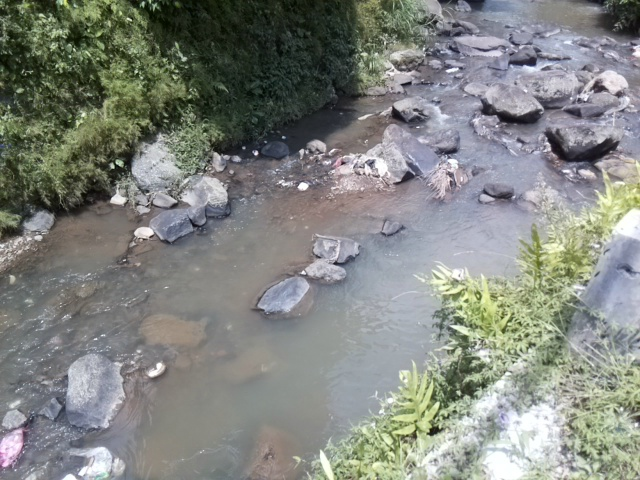Sampah_Plastik: (1, 427, 28, 468), (85, 447, 117, 480)
Sampah_Styrofoam: (295, 179, 311, 192)
